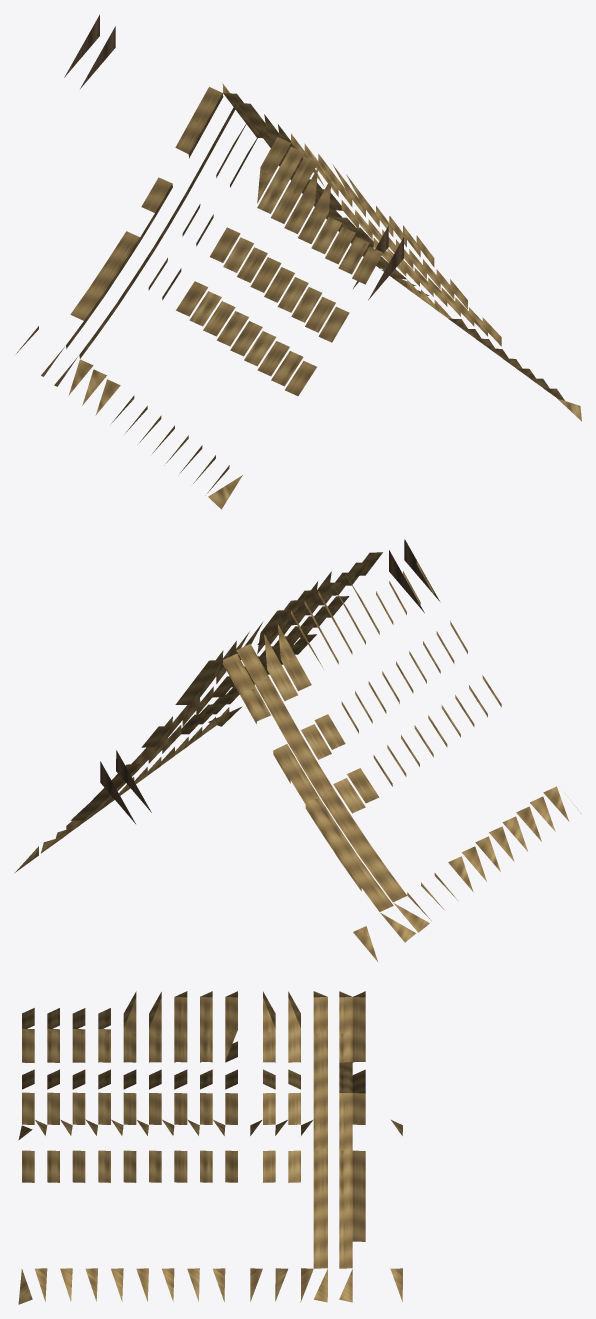
The model's file is Roof_Thatch_6x10_LOD2.gltf.
3 renders of one model, top to bottom at view 1: azimuth 30°, elevation 25°; view 2: azimuth 150°, elevation 25°; view 3: azimuth 270°, elevation 25°, orthographic. The views are drawn at different scales.
Visible parts, largest first — view 1: Roof_Thatch_6x10_LOD2; view 2: Roof_Thatch_6x10_LOD2; view 3: Roof_Thatch_6x10_LOD2.
Boxes of the visible parts, x1,y1,x2,y2 form: Roof_Thatch_6x10_LOD2: (16,14,581,509); Roof_Thatch_6x10_LOD2: (14,539,580,961); Roof_Thatch_6x10_LOD2: (18,991,402,1304).
Size of the model in its own units: 8.25 by 5.17 by 11.66.
Materials: 2 (2 with a texture image).
